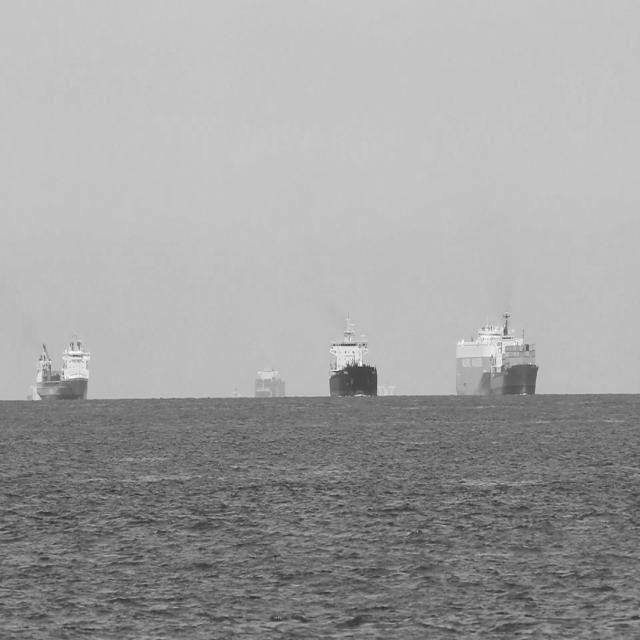ship: (454, 310, 539, 394), (328, 313, 378, 396), (35, 330, 90, 400), (255, 365, 286, 396), (377, 381, 396, 396), (231, 384, 241, 401), (27, 380, 35, 400)
